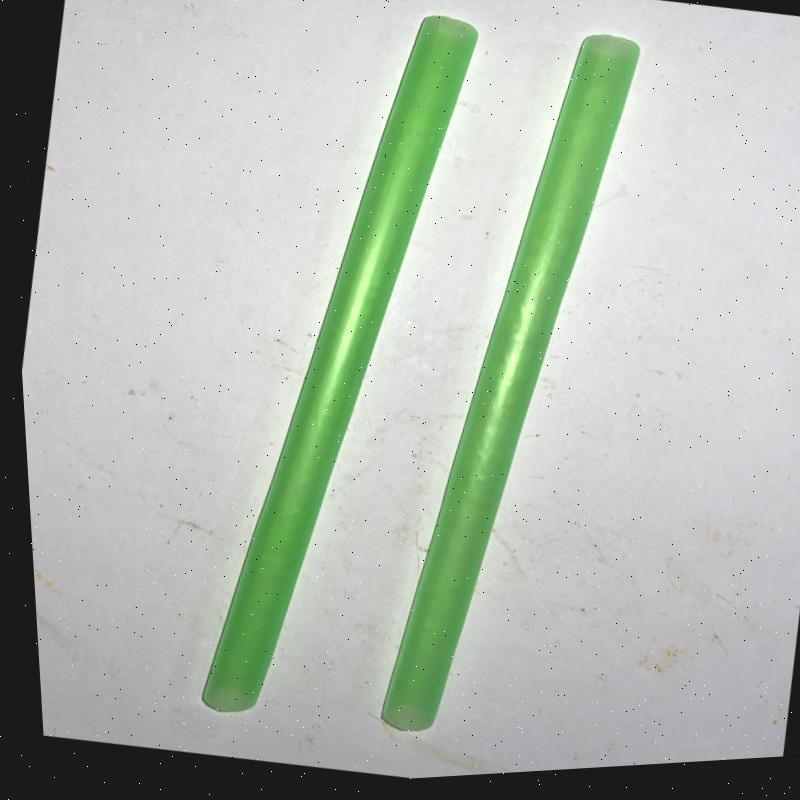plastic straw: (198, 12, 475, 714), (377, 32, 639, 734)
